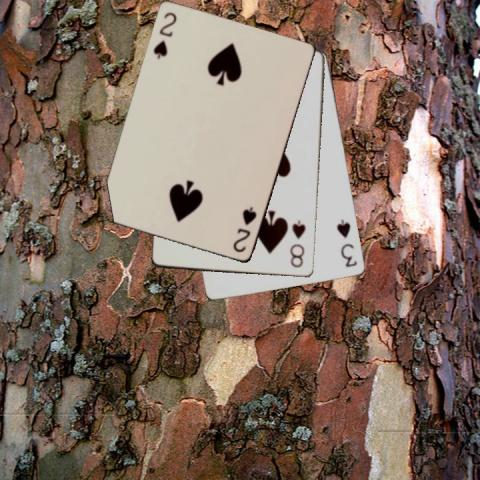2s: (150, 9, 179, 61), (230, 204, 259, 255)
3s: (334, 216, 359, 269)
8s: (287, 218, 308, 269)
